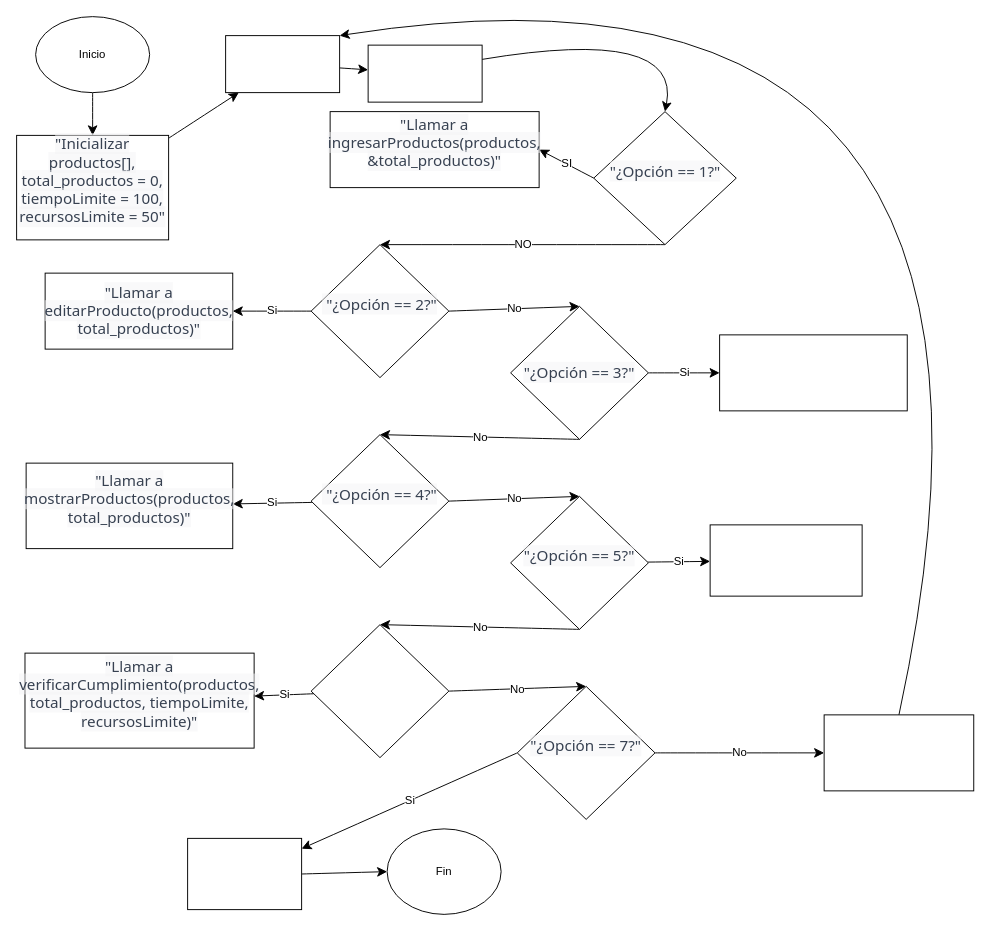
Some shapes in this 991 by 931 pixel diagram are drawn without their labels. The centre of each missing label's shape, as x and y in pixels:
"Leer opción": point (424, 73)
"Leer tiempoLimite": point (785, 560)
"Llamar a eliminarProducto(productos, &total_productos)": point (813, 372)
"Mostrar 'Opción no válida. Intente de nuevo.'": point (898, 752)
"Mostrar 'Saliendo...'": point (244, 873)
"Mostrar Menú": point (282, 64)
"¿Opción == 6?": point (379, 691)
